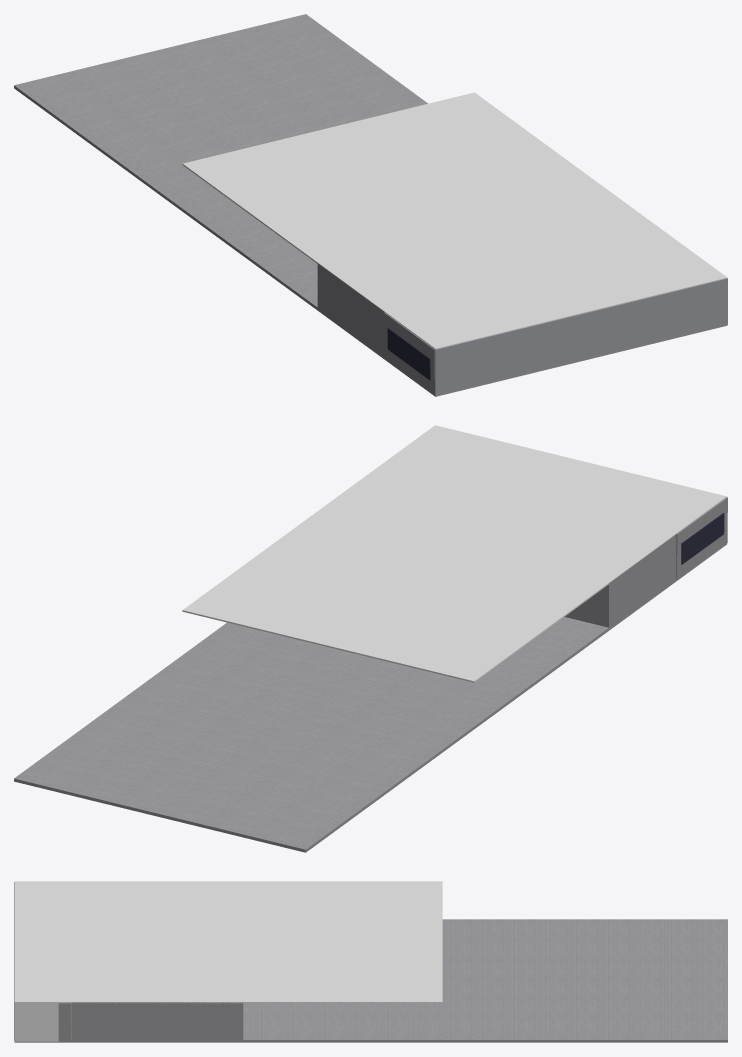
The model's file is pra.fbx.
The picture shows the model from 3 angles, top to bottom: view 1: azimuth 30°, elevation 25°; view 2: azimuth 150°, elevation 25°; view 3: azimuth 270°, elevation 25°; orthographic projection. The views are drawn at different scales.
Parts seen in each view (by area): view 1: 立方體.054, 地板, 牆壁2, 立方體, 牆壁1, 壁畫; view 2: 立方體.054, 地板, 立方體, 牆壁1, 壁畫; view 3: 立方體.054, 地板, 立方體.002, 立方體.041, 立方體.001.
Part boxes in pixels (bbox=[...]): 立方體.054: bbox=[182, 92, 727, 349]; 地板: bbox=[14, 14, 727, 396]; 牆壁2: bbox=[435, 278, 727, 395]; 立方體: bbox=[317, 264, 384, 356]; 牆壁1: bbox=[384, 312, 435, 395]; 壁畫: bbox=[387, 328, 430, 380]; 立方體.054: bbox=[182, 425, 726, 682]; 地板: bbox=[14, 544, 726, 852]; 立方體: bbox=[565, 534, 676, 628]; 牆壁1: bbox=[676, 497, 727, 579]; 壁畫: bbox=[681, 513, 724, 564]; 立方體.054: bbox=[14, 881, 442, 1003]; 地板: bbox=[14, 919, 727, 1042]; 立方體.002: bbox=[72, 1002, 243, 1041]; 立方體.041: bbox=[14, 1003, 58, 1041]; 立方體.001: bbox=[58, 1003, 71, 1039].
Size of the model in its own units: 2012 by 315 by 5005.
Materials: 57 (25 with a texture image).
